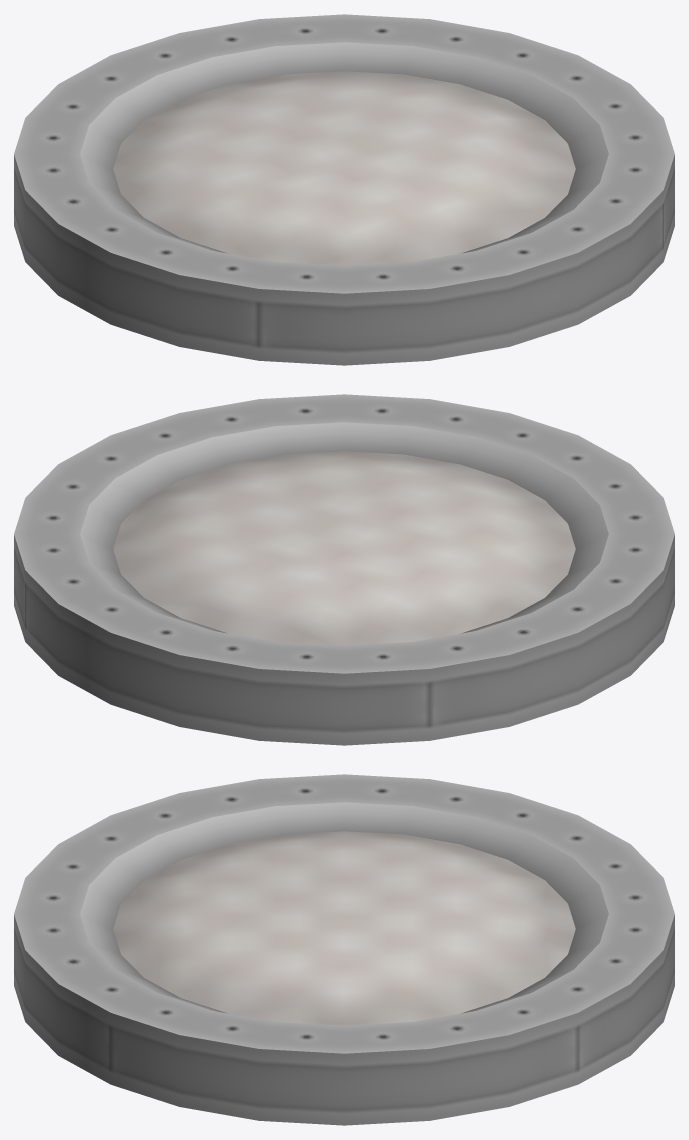
Rendered from Tantares_Parachute_1.obj.
3 renders of one model, top to bottom at view 1: azimuth 30°, elevation 25°; view 2: azimuth 150°, elevation 25°; view 3: azimuth 270°, elevation 25°, orthographic.
Visible parts, largest first — view 1: Tantares_Parachute_A, Tantares_Parachute_A_Cap; view 2: Tantares_Parachute_A, Tantares_Parachute_A_Cap; view 3: Tantares_Parachute_A, Tantares_Parachute_A_Cap.
Part boxes in pixels (x1,y1,x2,y2): Tantares_Parachute_A: [14, 14, 674, 365]; Tantares_Parachute_A_Cap: [113, 71, 575, 265]; Tantares_Parachute_A: [14, 394, 674, 745]; Tantares_Parachute_A_Cap: [113, 451, 575, 645]; Tantares_Parachute_A: [14, 774, 674, 1125]; Tantares_Parachute_A_Cap: [113, 831, 575, 1025].
Size of the model in its own units: 0.625 by 0.0794 by 0.625.
